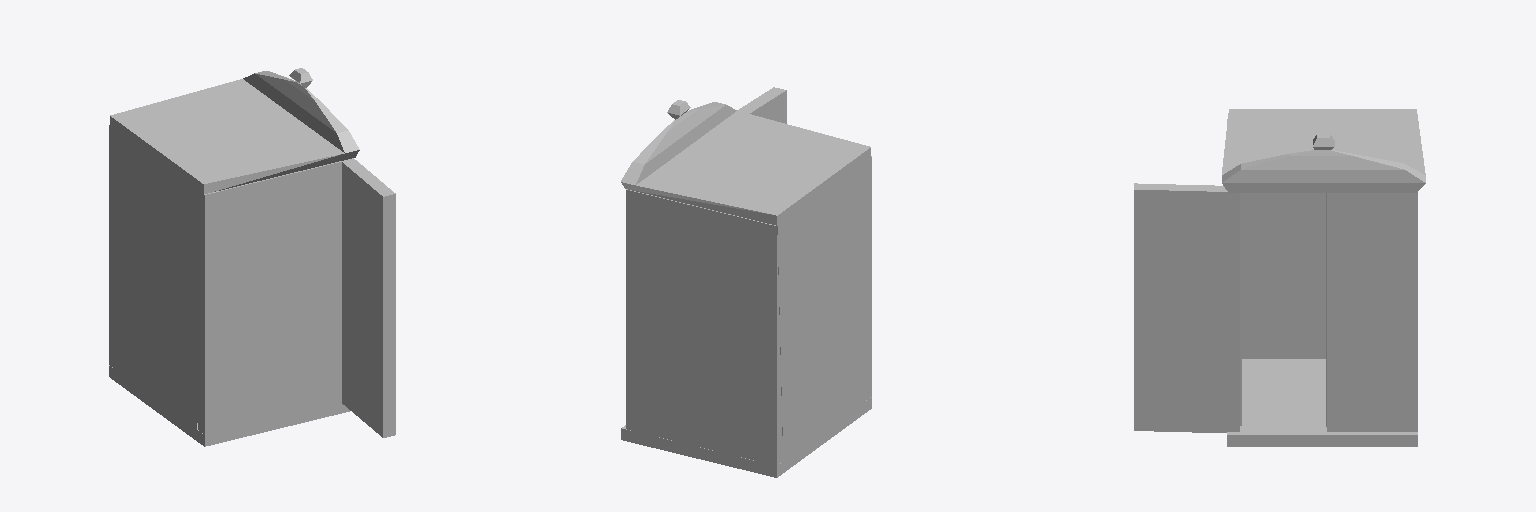
Rendered from wardrobe.obj.
The picture shows the model from 3 angles: view 1: azimuth 30°, elevation 25°; view 2: azimuth 150°, elevation 25°; view 3: azimuth 270°, elevation 25°; orthographic projection.
Visible parts, largest first — view 1: Cube.001; view 2: Cube.001; view 3: Cube.001.
Part boxes in pixels (left/top/right/bottom): Cube.001: left=109, top=68, right=395, bottom=446; Cube.001: left=621, top=87, right=871, bottom=477; Cube.001: left=1134, top=109, right=1425, bottom=446.
Size of the model in its own units: 6.68 by 12.52 by 10.84.